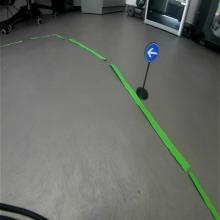left: (144, 43, 160, 62)
